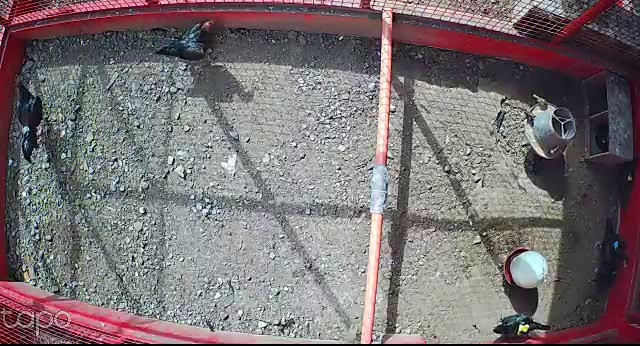Chicken: (155, 18, 222, 62), (593, 216, 630, 272), (491, 311, 555, 340)
Drinker: (503, 248, 549, 291)
Feeder: (524, 100, 577, 159)
Rooster: (12, 74, 51, 164)
Saddle_Color_Blue: (612, 241, 619, 250)
Saddle_Color_Yellow: (517, 323, 529, 336)
